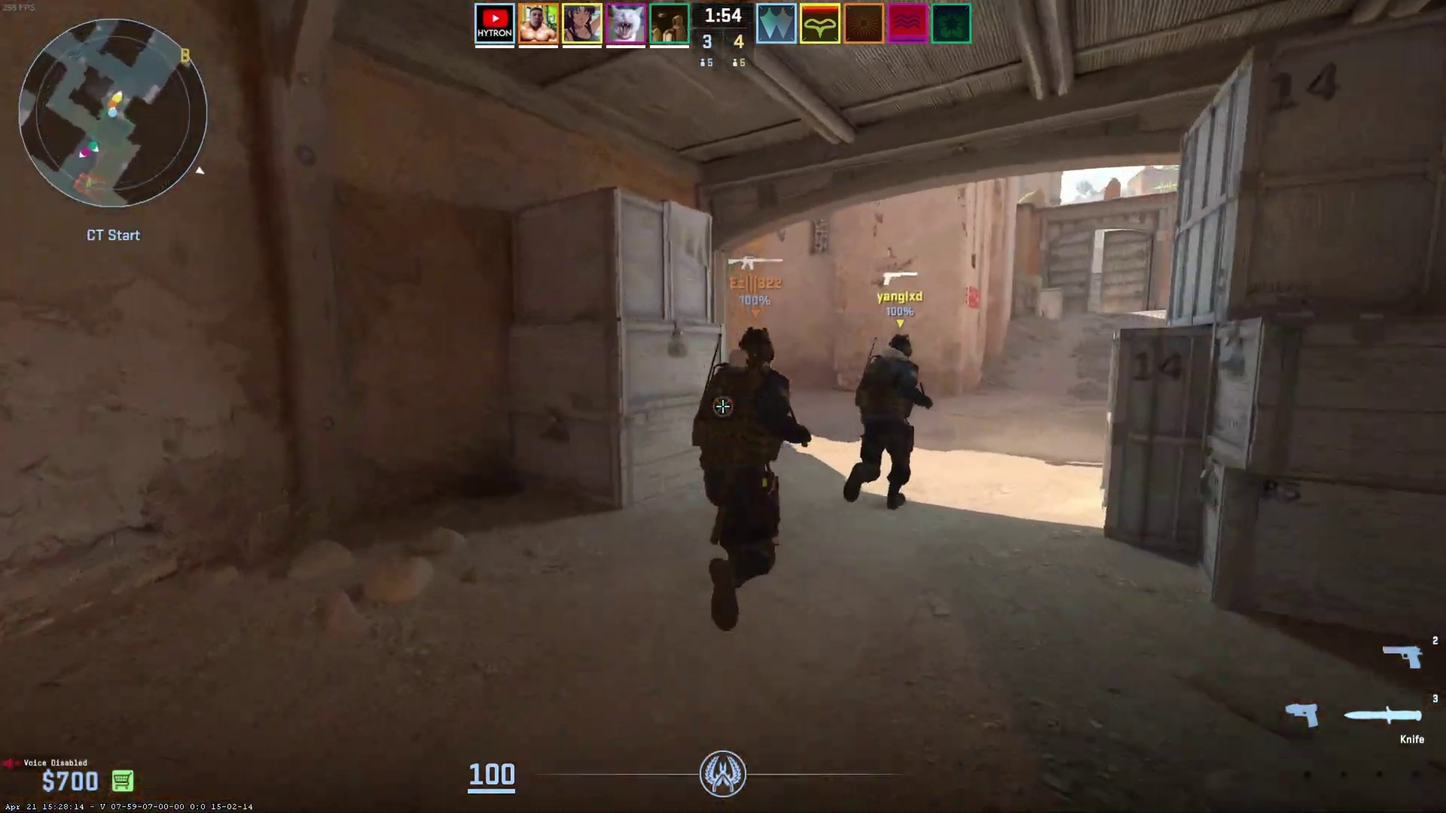CT: (706, 328, 793, 629), (851, 334, 914, 511)
